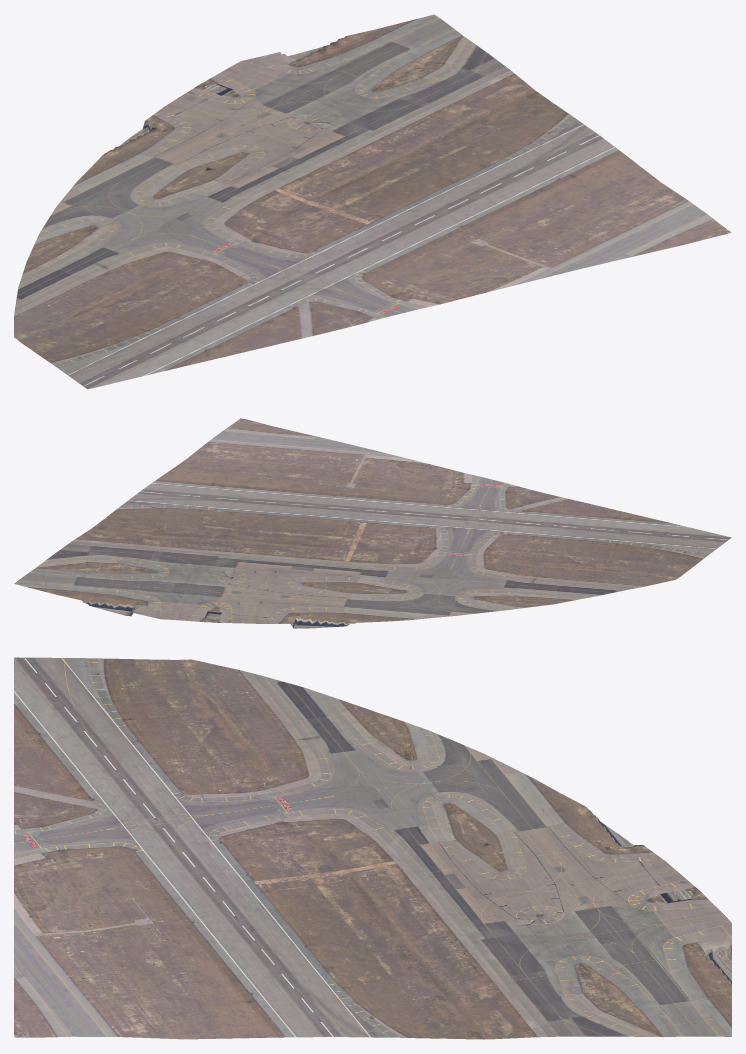
File: terrain_06.glb
3 renders of one model, top to bottom at view 1: azimuth 30°, elevation 25°; view 2: azimuth 150°, elevation 25°; view 3: azimuth 270°, elevation 25°, orthographic. The views are drawn at different scales.
Visible parts, largest first — view 1: T09000180000106E10.001; view 2: T09000180000106E10.001; view 3: T09000180000106E10.001.
Part boxes in pixels (<box>): T09000180000106E10.001: <box>14,14,731,389</box>; T09000180000106E10.001: <box>14,418,731,628</box>; T09000180000106E10.001: <box>14,657,731,1039</box>.
Bounding box in the file's own units: 750 × 8.35 × 600.
1 material, 1 textured.
